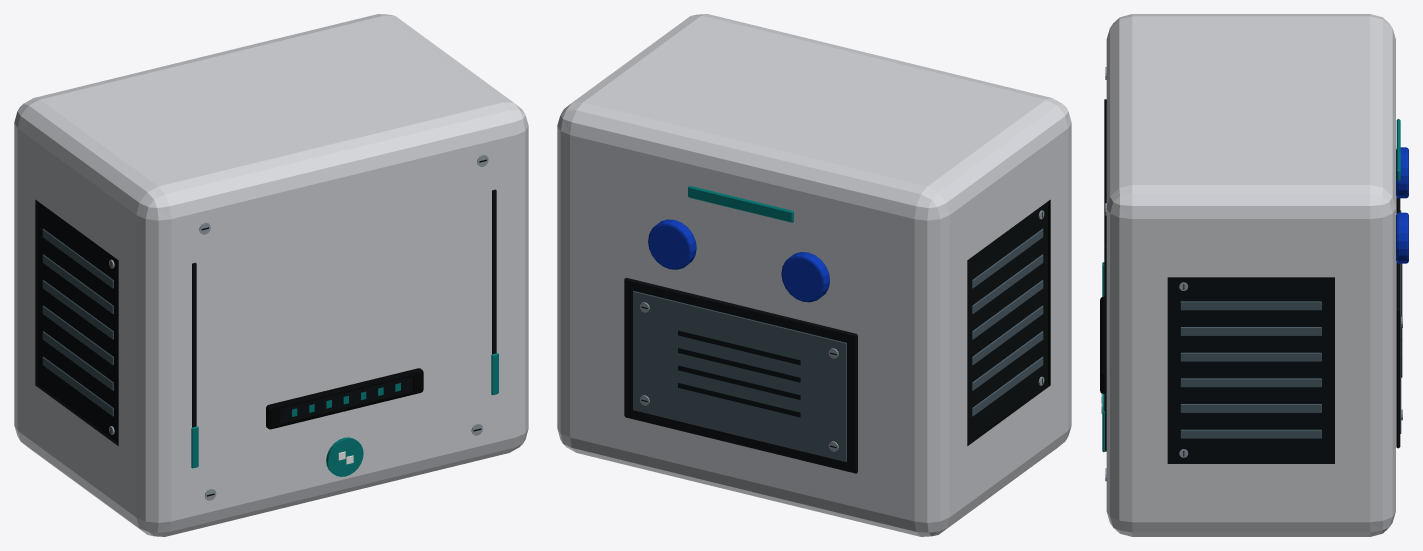
The model's file is biped_body.obj.
3 views of the same model, side by side, from view 1: azimuth 30°, elevation 25°; view 2: azimuth 150°, elevation 25°; view 3: azimuth 270°, elevation 25° (orthographic).
Parts seen in each view (by area): view 1: biped_body; view 2: biped_body; view 3: biped_body.
Part boxes in pixels (bbox=[...]): biped_body: bbox=[14, 14, 528, 536]; biped_body: bbox=[557, 14, 1071, 536]; biped_body: bbox=[1100, 14, 1408, 536].
Bounding box in the file's own units: 0.07 × 0.06 × 0.048.
